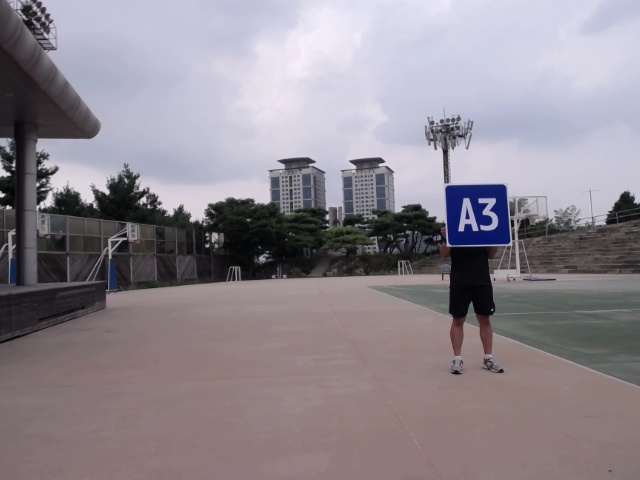delivery_a3: (445, 184, 511, 246)
